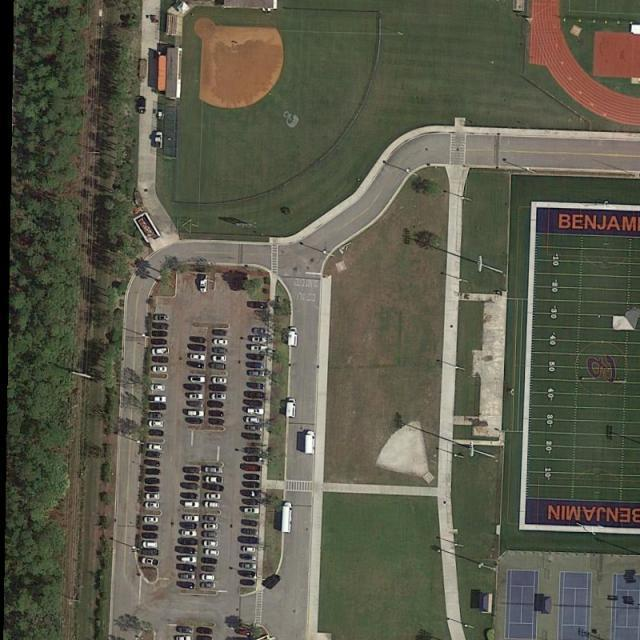vehicle: (303, 430, 316, 455), (283, 502, 293, 534), (265, 575, 282, 591), (239, 462, 263, 473), (203, 482, 225, 493), (286, 398, 298, 418), (140, 557, 161, 568), (288, 326, 298, 349), (210, 375, 230, 386), (242, 432, 263, 442), (198, 273, 208, 294), (150, 346, 170, 356), (177, 563, 197, 573), (144, 458, 162, 469), (176, 546, 198, 555), (186, 360, 205, 370), (241, 528, 260, 538), (211, 346, 228, 357), (243, 391, 266, 399), (243, 399, 263, 408), (176, 581, 196, 590), (238, 570, 256, 580), (205, 475, 225, 484), (246, 301, 268, 309), (211, 353, 227, 364), (246, 381, 265, 390), (246, 361, 265, 370), (209, 383, 228, 392), (208, 362, 227, 371), (206, 400, 225, 409), (242, 473, 261, 482), (239, 553, 258, 562), (183, 466, 202, 475), (154, 131, 164, 148), (189, 375, 206, 385), (190, 335, 207, 345), (197, 626, 214, 636), (245, 354, 266, 362), (238, 537, 259, 545), (187, 409, 205, 418), (186, 399, 204, 408), (243, 481, 261, 490), (188, 352, 206, 361), (185, 417, 205, 425), (149, 419, 165, 429), (241, 490, 261, 498), (214, 337, 230, 347), (250, 336, 270, 344), (242, 518, 258, 528), (142, 524, 159, 533), (209, 417, 226, 426), (208, 409, 225, 418), (153, 322, 170, 331), (246, 407, 265, 415), (148, 395, 167, 403), (247, 369, 266, 377), (181, 482, 200, 490), (239, 562, 258, 570), (205, 466, 224, 474), (150, 403, 168, 411), (152, 356, 170, 364), (137, 98, 146, 114), (149, 443, 165, 452), (243, 455, 261, 463), (142, 540, 158, 549), (175, 626, 193, 634), (180, 491, 198, 499), (181, 529, 197, 538), (201, 557, 219, 565), (202, 514, 218, 523), (205, 501, 221, 510), (178, 538, 198, 545), (212, 329, 229, 337), (210, 393, 227, 401), (245, 424, 262, 432), (148, 429, 165, 437), (152, 330, 169, 338), (152, 314, 169, 322), (184, 474, 201, 482), (184, 514, 201, 522), (181, 522, 198, 530), (202, 531, 219, 539), (252, 326, 267, 335), (246, 415, 261, 424), (145, 501, 160, 510), (204, 539, 219, 548), (188, 393, 204, 401), (144, 516, 160, 524), (146, 451, 162, 459), (245, 446, 261, 454), (250, 344, 266, 352), (142, 532, 158, 540), (240, 579, 256, 587), (242, 546, 258, 554), (178, 573, 196, 580), (206, 549, 220, 558), (151, 383, 166, 391), (146, 493, 161, 501), (184, 501, 199, 509), (204, 523, 219, 531), (186, 384, 203, 391), (145, 469, 162, 476), (142, 549, 159, 556), (180, 556, 197, 563), (242, 499, 259, 506), (153, 366, 169, 373), (145, 477, 161, 484), (149, 412, 163, 420), (245, 507, 259, 515), (202, 574, 216, 582), (206, 493, 222, 500), (202, 582, 217, 589), (202, 566, 217, 573), (146, 486, 161, 492), (238, 630, 252, 636), (198, 635, 214, 640), (174, 636, 193, 640), (236, 638, 253, 640)
